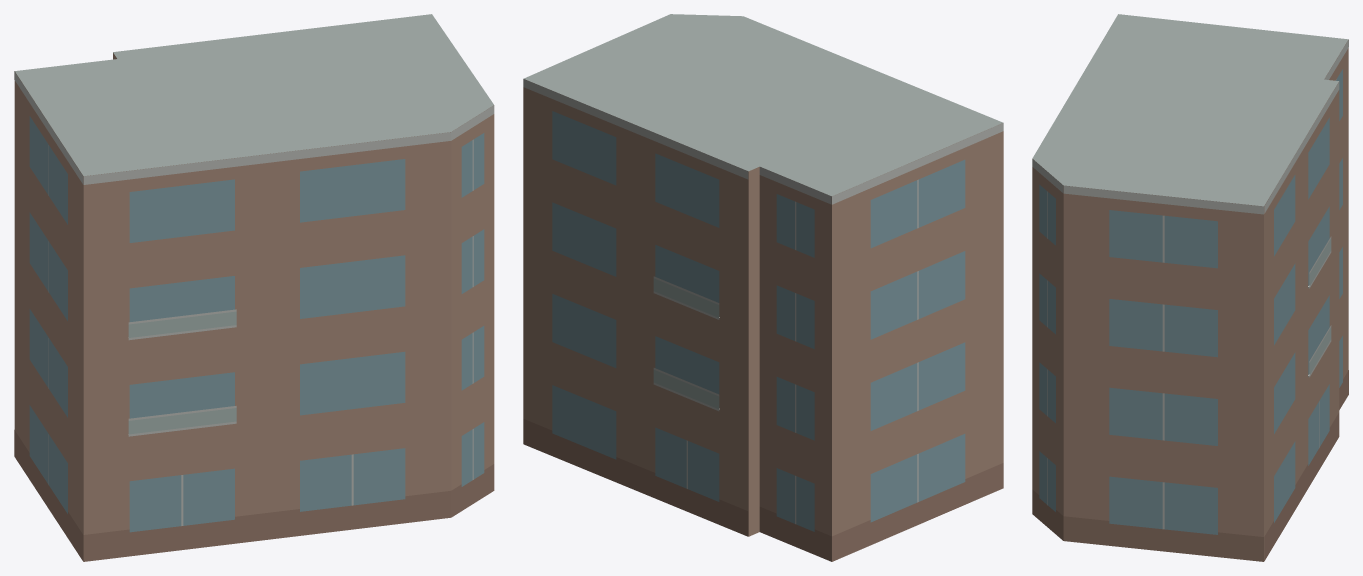
Rendered from survey-upis-33046172.glb.
3 views of the same model, side by side, from view 1: azimuth 30°, elevation 25°; view 2: azimuth 150°, elevation 25°; view 3: azimuth 270°, elevation 25° (orthographic). The views are drawn at different scales.
Visible parts, largest first — view 1: survey-upis-33046172.tmp; view 2: survey-upis-33046172.tmp; view 3: survey-upis-33046172.tmp.
Boxes of the visible parts, x1,y1,x2,y2 form: survey-upis-33046172.tmp: [14, 14, 494, 561]; survey-upis-33046172.tmp: [523, 14, 1003, 561]; survey-upis-33046172.tmp: [1032, 14, 1348, 561].
Size of the model in its own units: 12.37 by 10.65 by 8.6.
